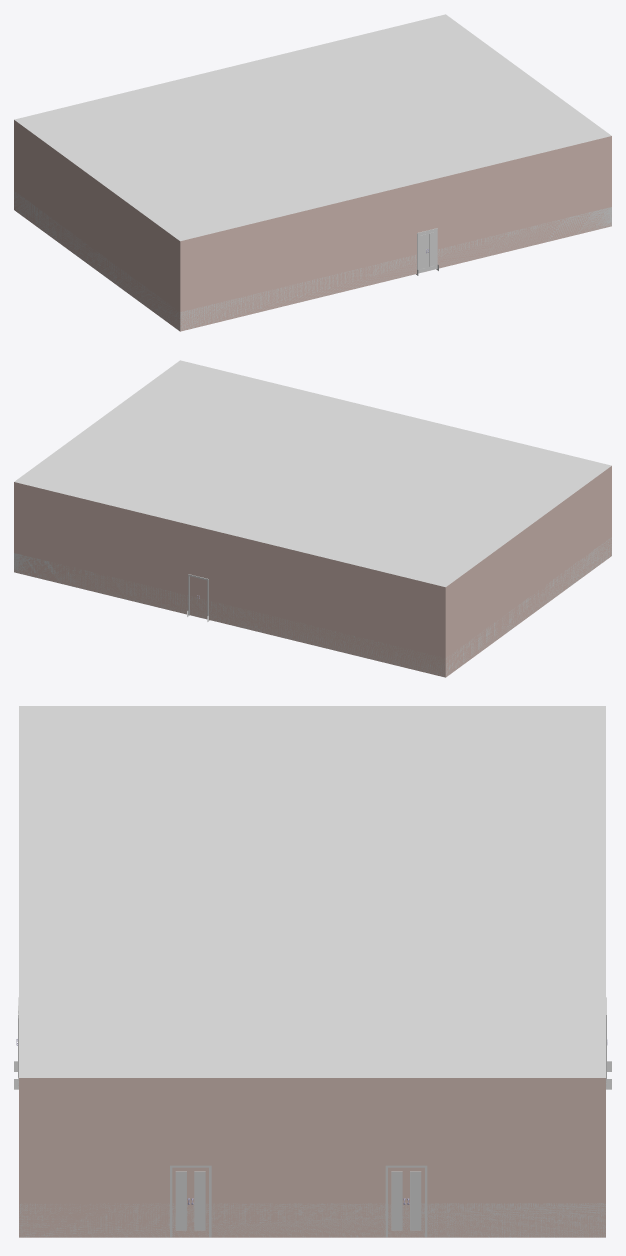
File: Hall4.fbx
The picture shows the model from 3 angles, top to bottom: view 1: azimuth 30°, elevation 25°; view 2: azimuth 150°, elevation 25°; view 3: azimuth 270°, elevation 25°; orthographic projection. The views are drawn at different scales.
Visible parts, largest first — view 1: Ceiling, Room.001, Baseboard; view 2: Ceiling, Room.001, Baseboard; view 3: Ceiling, Room.001, Baseboard, Door, Door.009, Door.001, Door.002.
Boxes of the visible parts, x1,y1,x2,y2 form: Ceiling: (14, 14, 611, 241); Room.001: (14, 120, 611, 331); Baseboard: (14, 191, 611, 330); Ceiling: (14, 360, 611, 587); Room.001: (14, 466, 611, 677); Baseboard: (14, 537, 611, 677); Ceiling: (19, 706, 605, 1077); Room.001: (19, 1078, 605, 1237); Baseboard: (19, 1203, 605, 1237); Door: (391, 1171, 402, 1230); Door.009: (410, 1171, 421, 1230); Door.001: (175, 1171, 186, 1230); Door.002: (194, 1171, 205, 1230).
Bounding box in the file's own units: 3016 × 609 × 2038.
